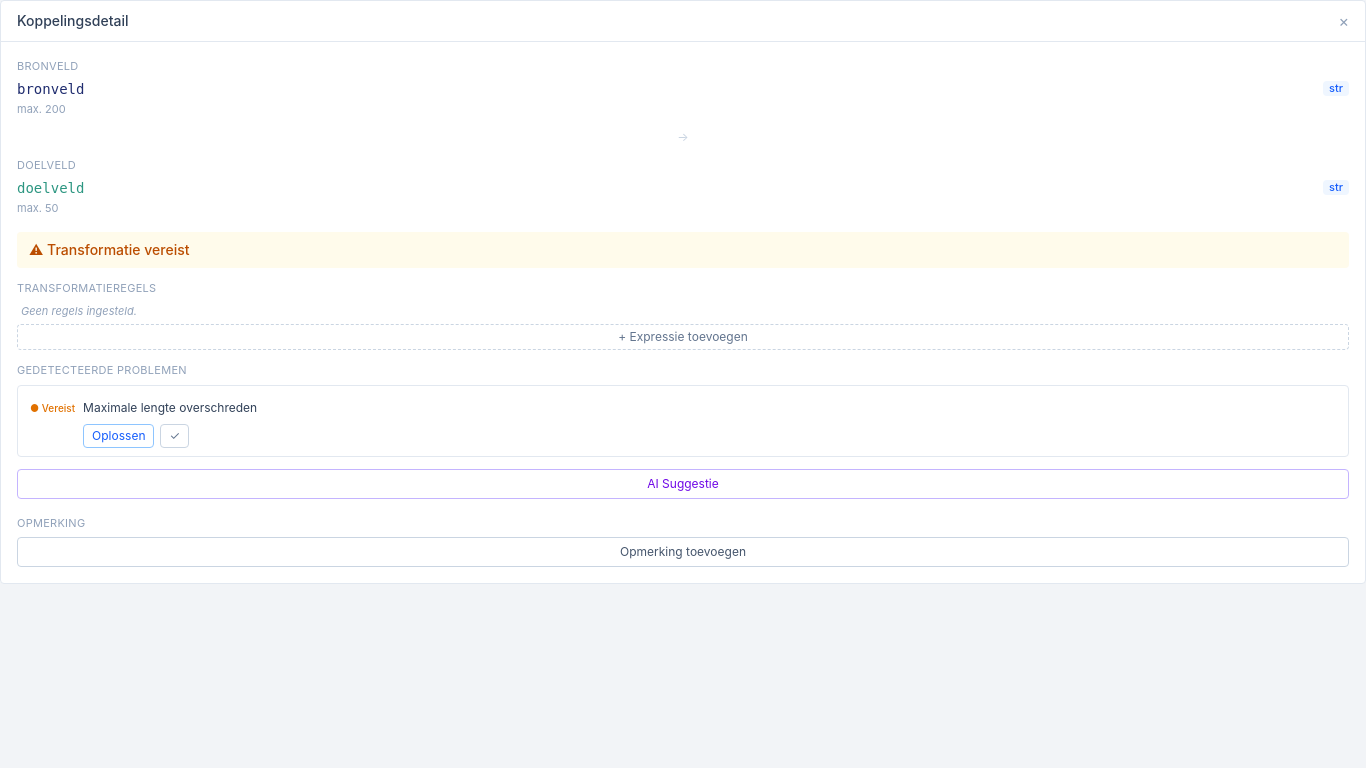
it: CouplingDetailPanel — mismatch detection › opens TruncationDialog when Oplossen is clicked on the truncation mismatch card
Click the button with test id "mismatch-solve-truncate". click: [119, 436]
box: [83,424,154,448]
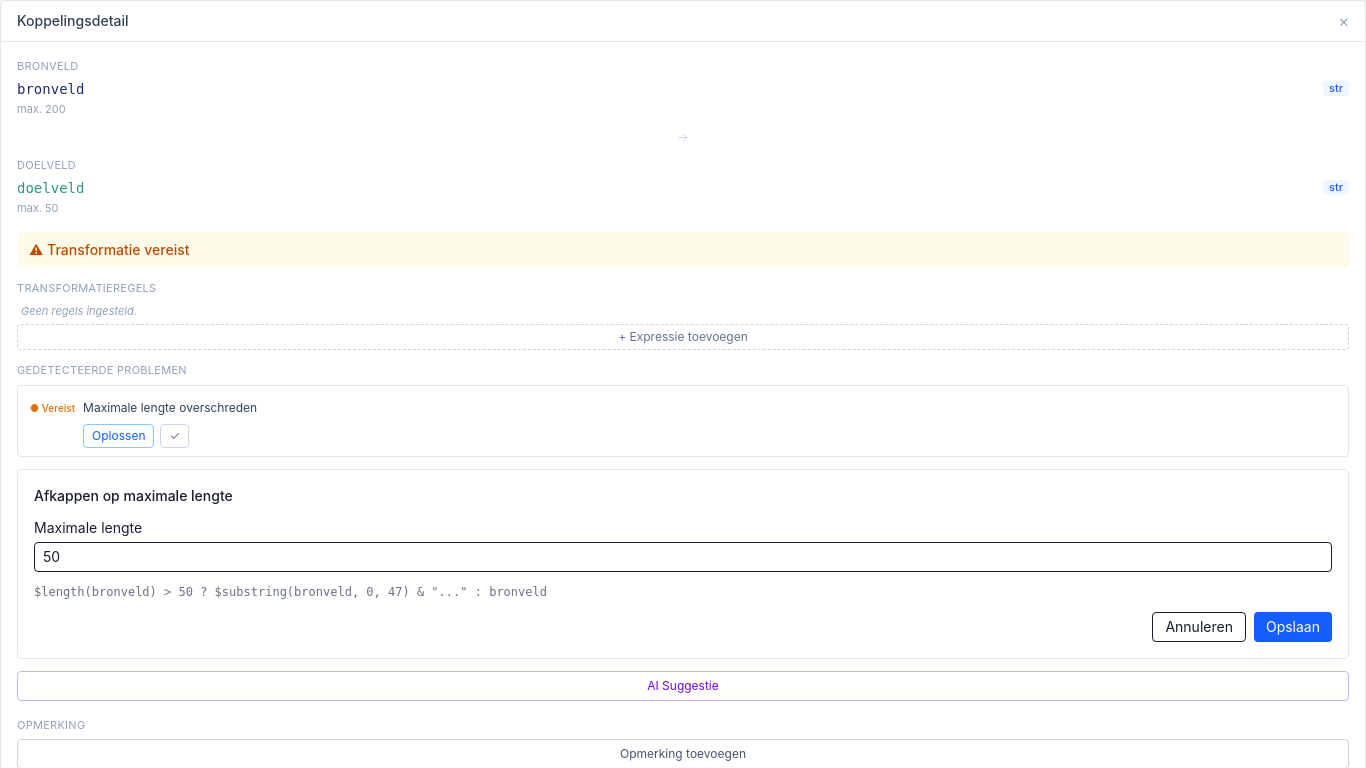
Expected: the element that starts with "Afkappen op maximale lengte" is shown, [18,470,1348,658]
